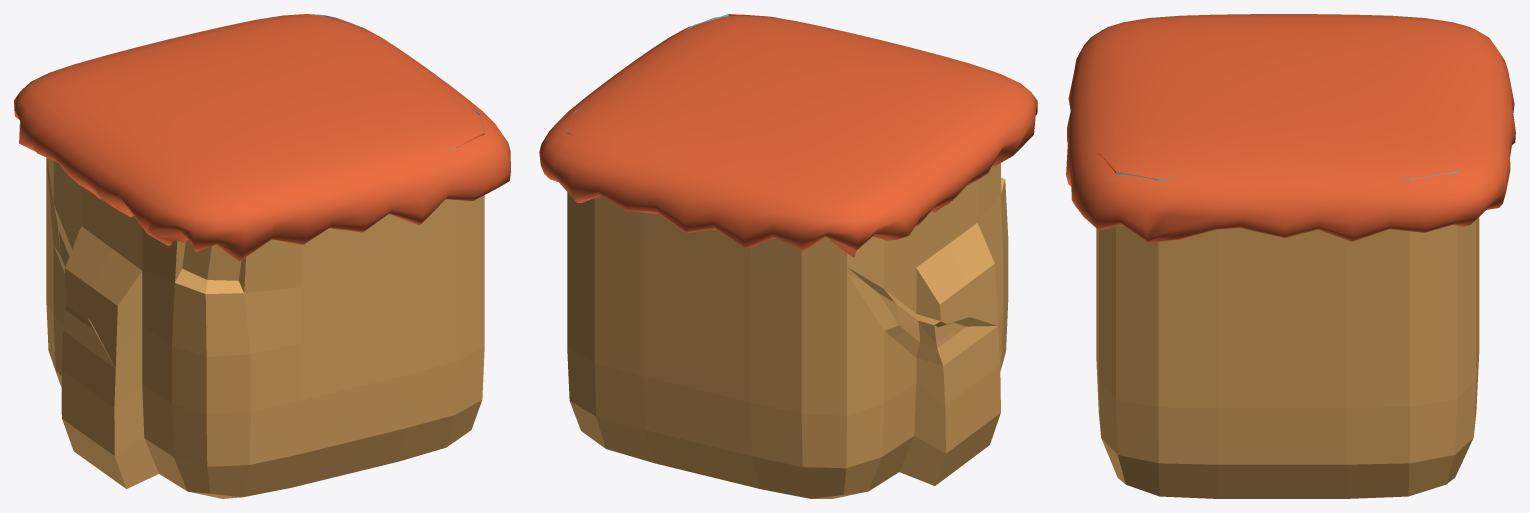
Rendered from desertCube .fbx.
3 renders of one model, left to right at view 1: azimuth 30°, elevation 25°; view 2: azimuth 150°, elevation 25°; view 3: azimuth 270°, elevation 25°, orthographic. The views are drawn at different scales.
Parts seen in each view (by area): view 1: Cube.006; view 2: Cube.006; view 3: Cube.006.
Boxes of the visible parts, x1=… form: Cube.006: x1=14, y1=14, x2=510, y2=498; Cube.006: x1=539, y1=14, x2=1037, y2=498; Cube.006: x1=1066, y1=14, x2=1515, y2=498.
Size of the model in its own units: 348 by 311 by 350.
